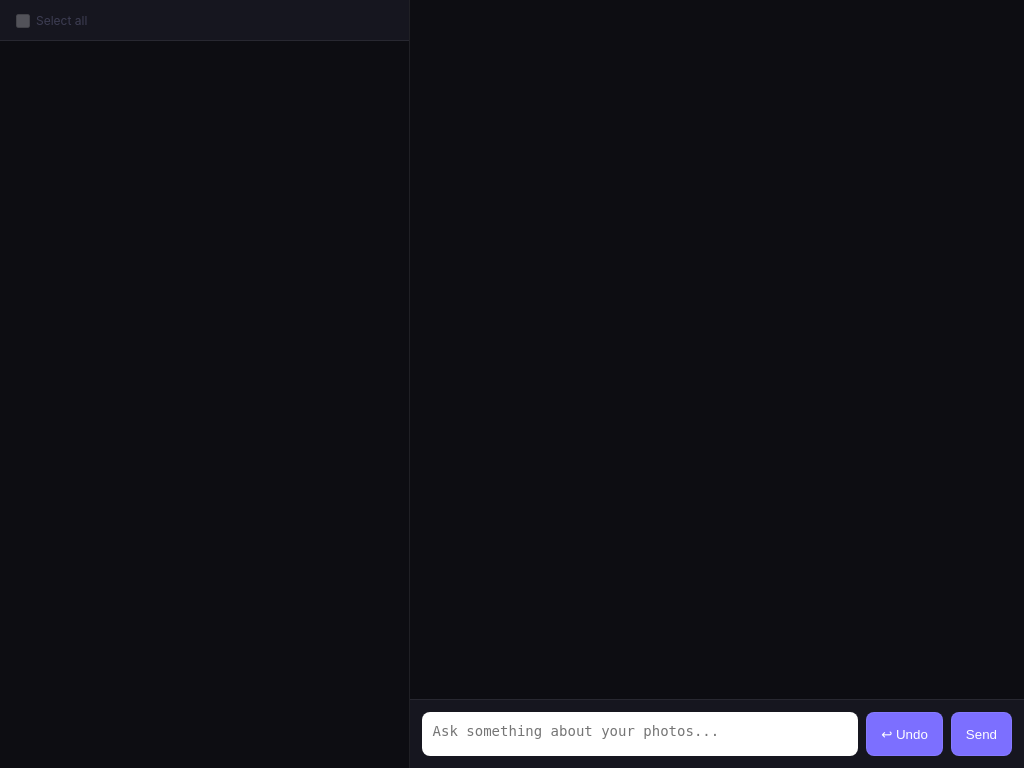
Test case: ChatPage › sends plain message when no photos selected
The image size is (1024, 768).
Type "Hello" into the text box with placeholder "Ask something about your photos..." at (640, 734), box [422,712,858,756]
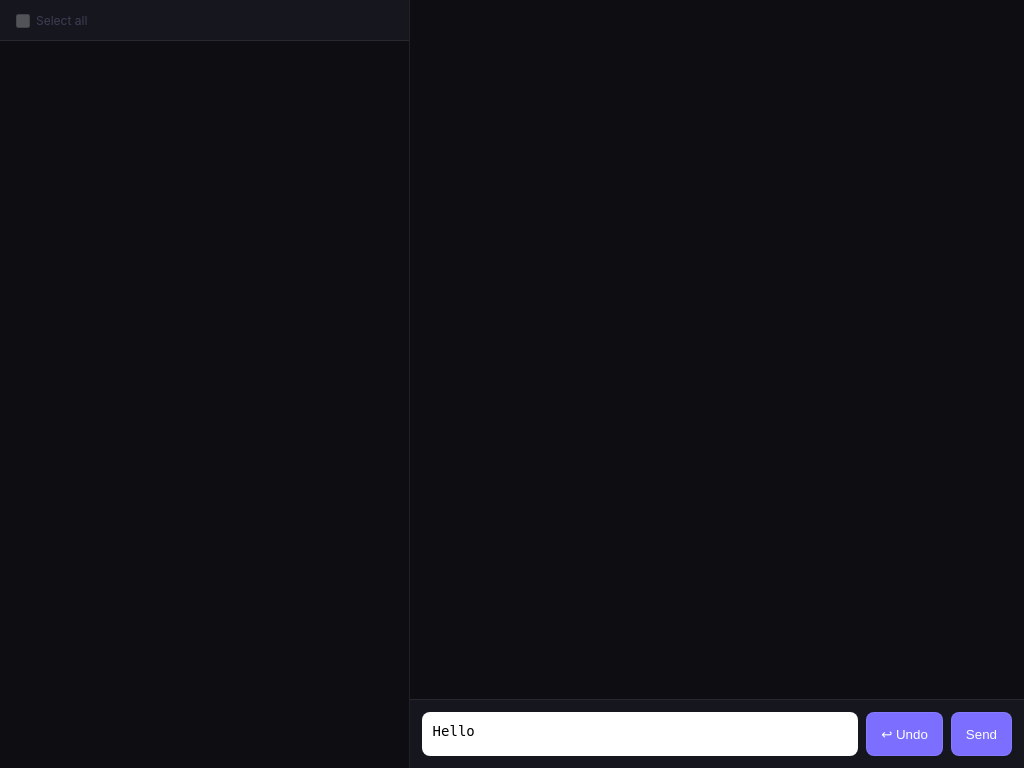
Click the button "Send" at (981, 734), box [951,712,1012,756]
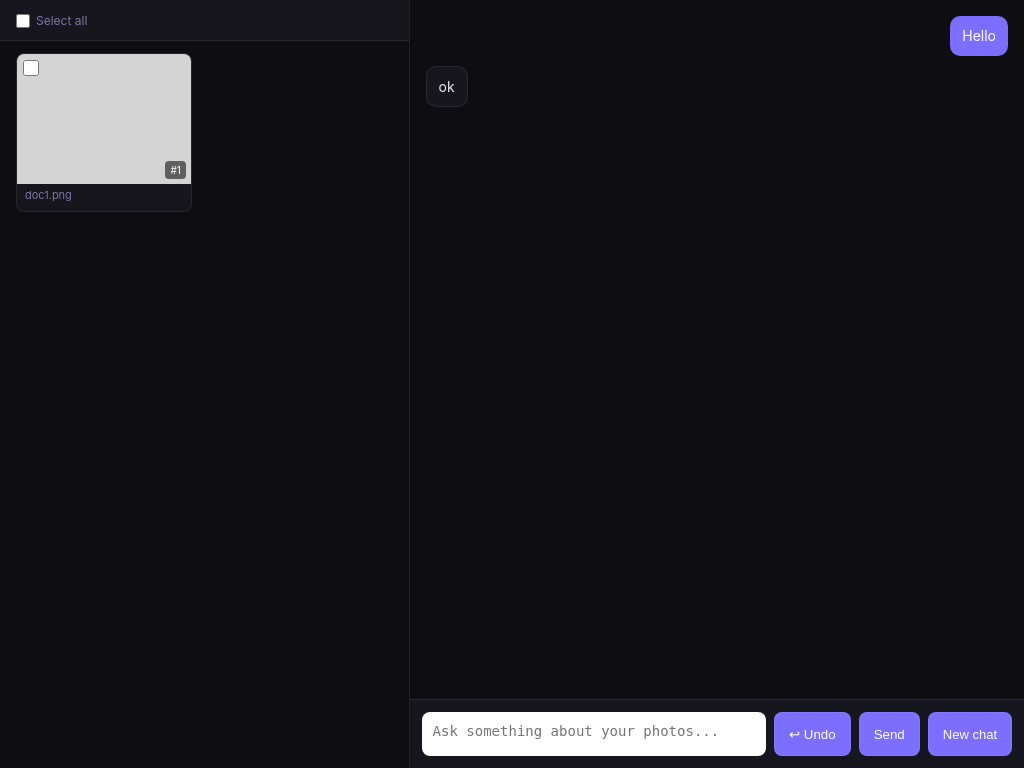
Check: the text "ok" is shown, box [426,66,468,107]
Check: the text "Hello" is shown, box [950,16,1008,56]
